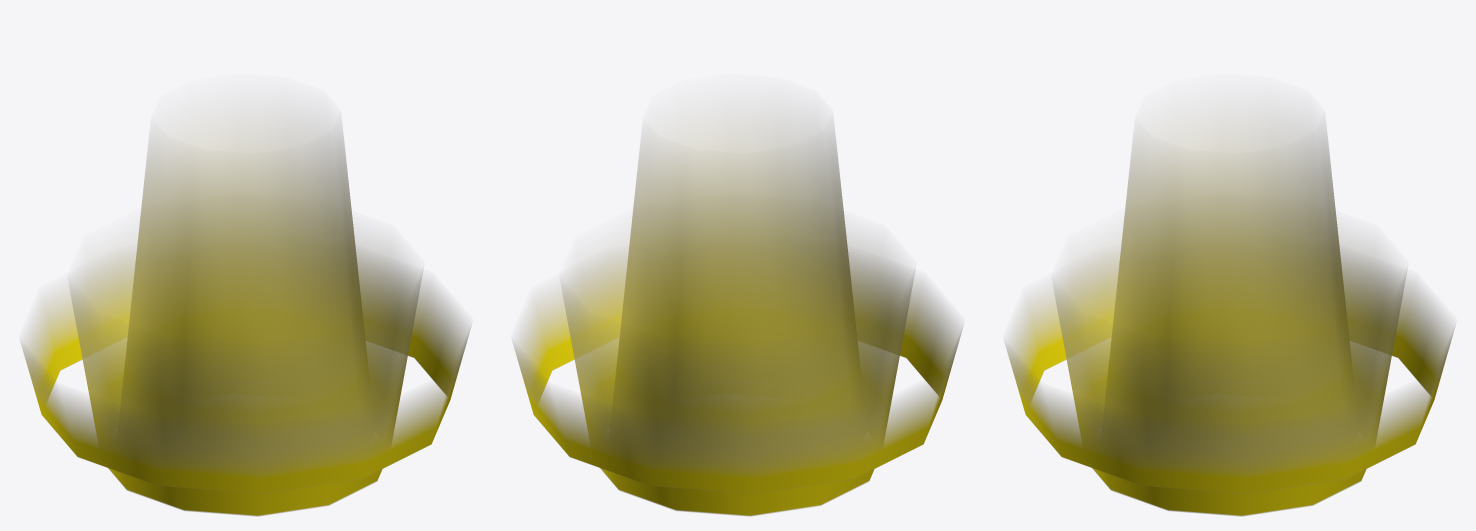
File: PortalFade02.glb
3 renders of one model, left to right at view 1: azimuth 30°, elevation 25°; view 2: azimuth 150°, elevation 25°; view 3: azimuth 270°, elevation 25°, orthographic.
Visible parts, largest first — view 1: PortalFade02; view 2: PortalFade02; view 3: PortalFade02.
Boxes of the visible parts, x1=… form: PortalFade02: x1=20, y1=103, x2=471, y2=516; PortalFade02: x1=512, y1=103, x2=963, y2=516; PortalFade02: x1=1004, y1=103, x2=1455, y2=516.
Size of the model in its own units: 1.66 by 1.59 by 1.66.
Materials: 1 (1 with a texture image).
